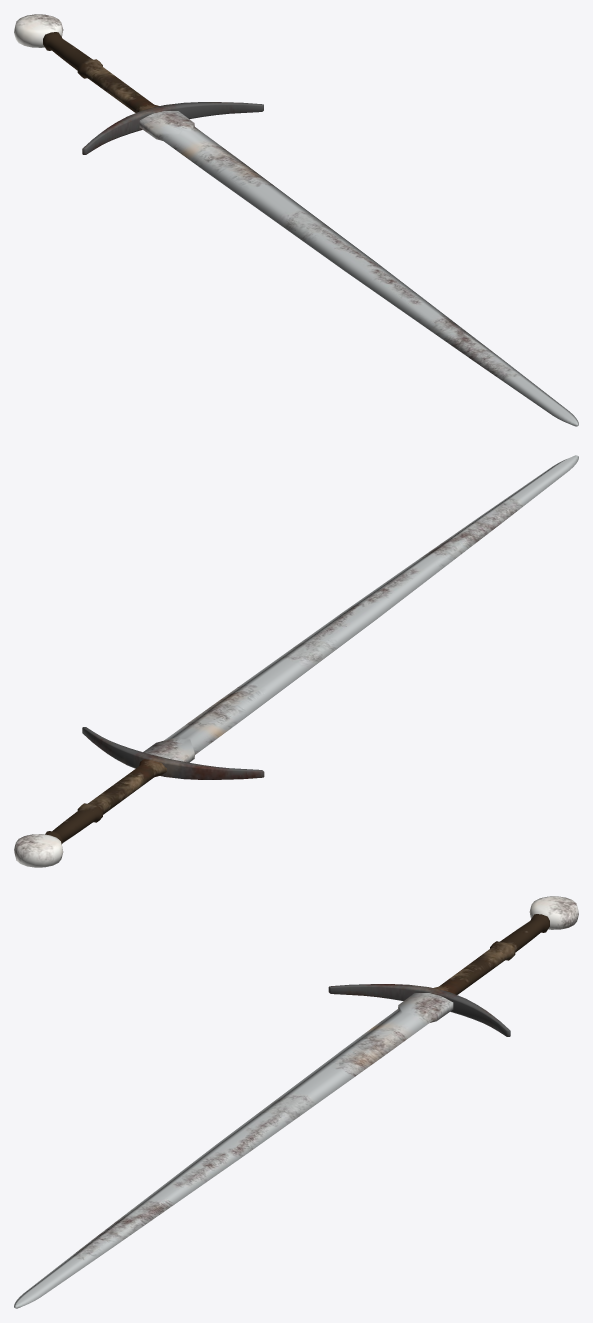
The model's file is moatwatch.glb.
3 renders of one model, top to bottom at view 1: azimuth 30°, elevation 25°; view 2: azimuth 150°, elevation 25°; view 3: azimuth 330°, elevation 25°, orthographic.
Parts seen in each view (by area): view 1: Plane003__0; view 2: Plane003__0; view 3: Plane003__0.
Part boxes in pixels (bbox=[...]): Plane003__0: bbox=[14, 14, 578, 426]; Plane003__0: bbox=[14, 455, 578, 867]; Plane003__0: bbox=[14, 896, 578, 1308].
Size of the model in its own units: 0.1895 by 0.0205 by 1.
Materials: 1 (1 with a texture image).
